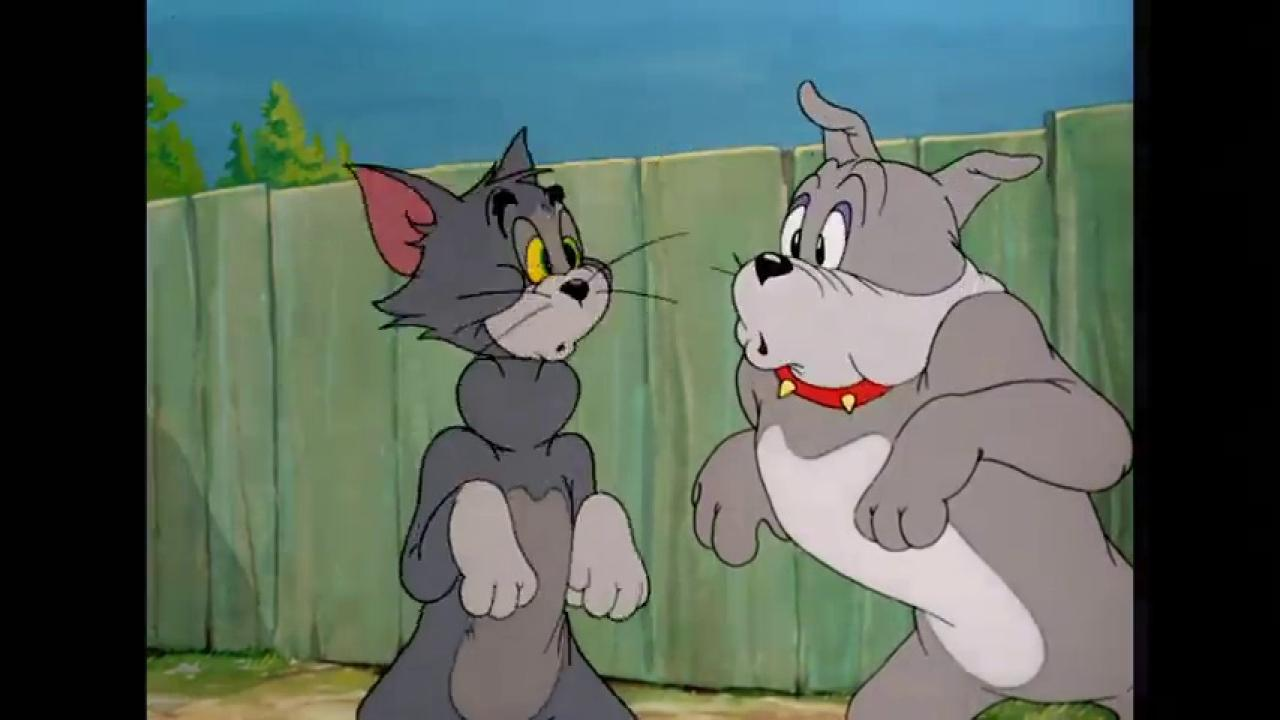Tom: (342, 123, 652, 720)
